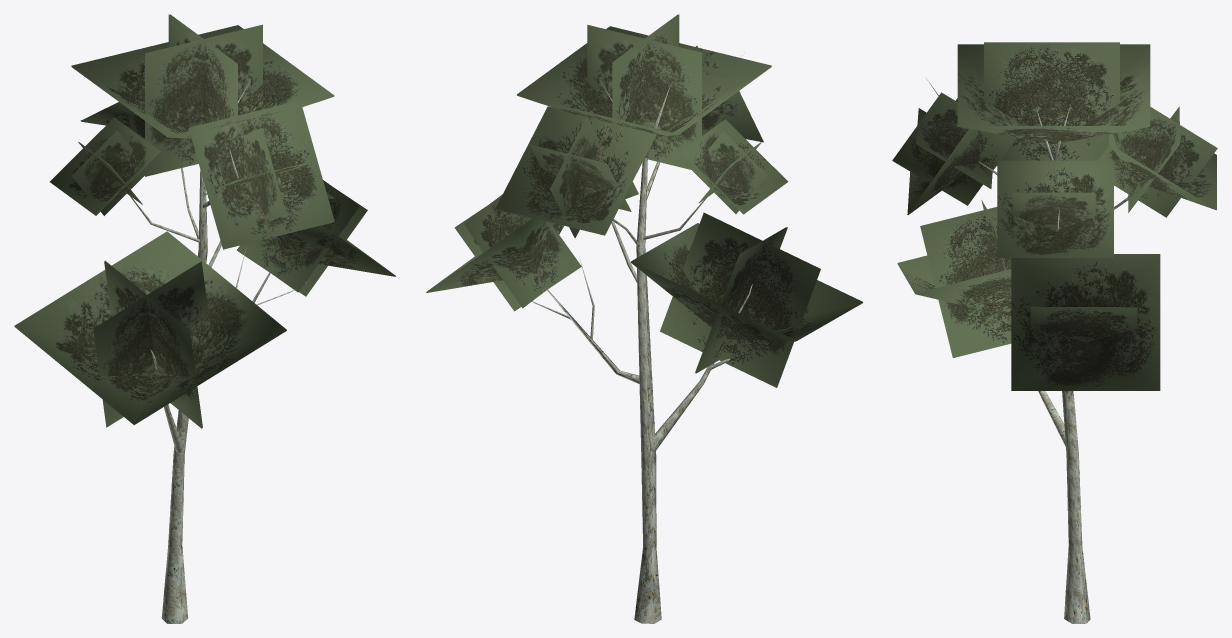
File: ever_eucalyptus_med_l1.fbx
3 views of the same model, side by side, from view 1: azimuth 30°, elevation 25°; view 2: azimuth 150°, elevation 25°; view 3: azimuth 270°, elevation 25° (orthographic). The views are drawn at different scales.
Visible parts, largest first — view 1: mesh_node; view 2: mesh_node; view 3: mesh_node.
Part boxes in pixels (x1,y1,x2,y2): mesh_node: (14, 14, 395, 623); mesh_node: (426, 14, 862, 623); mesh_node: (892, 42, 1217, 623).
Size of the model in its own units: 10.61 by 16.82 by 8.5.
